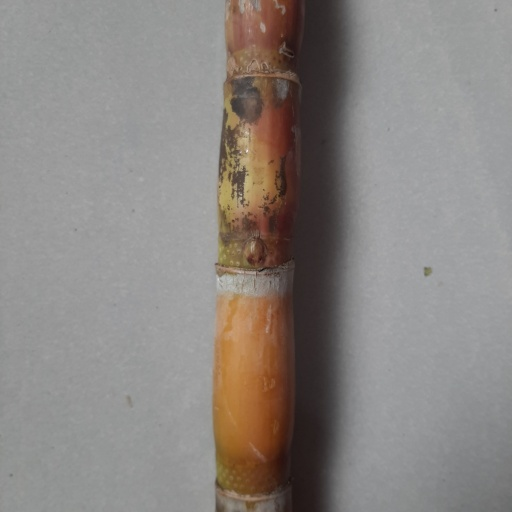Bud: (240, 236, 268, 270)
